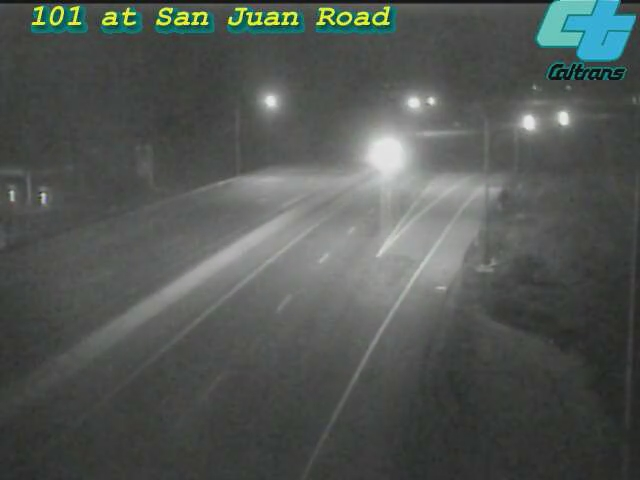vehicle: (359, 129, 409, 179), (502, 102, 552, 152), (539, 93, 589, 143)
